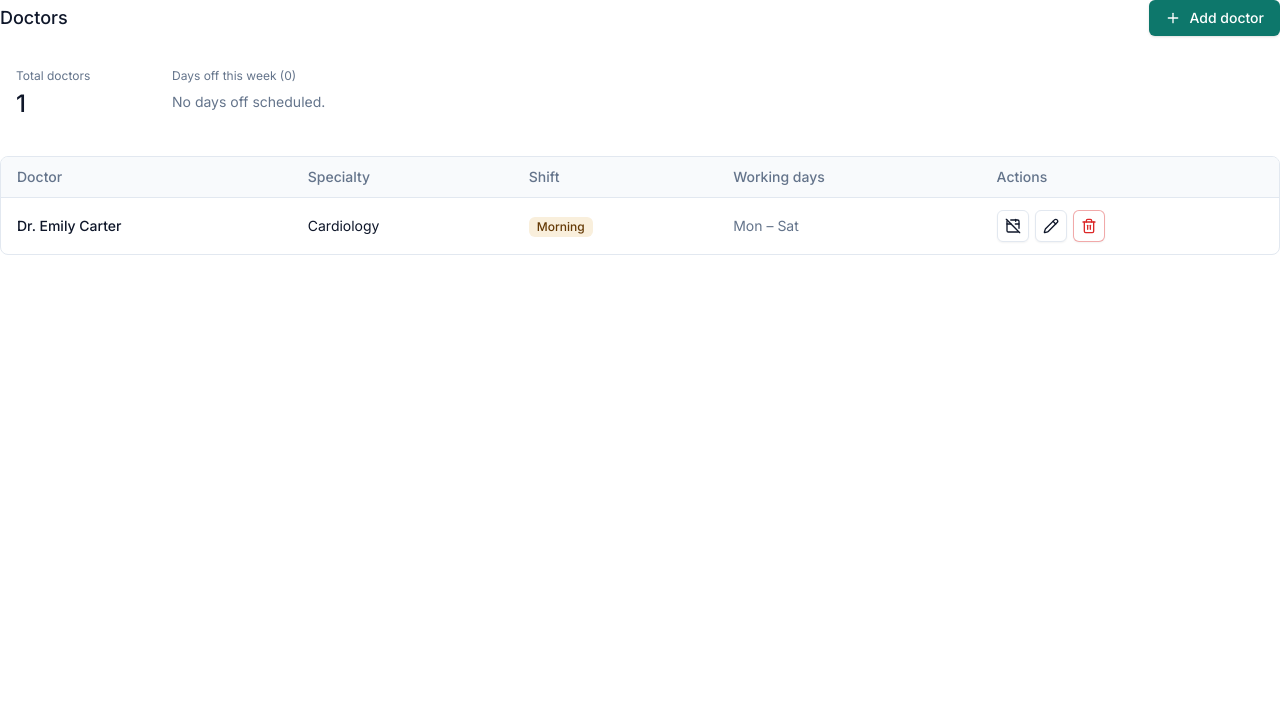
Day-off enforcement flow › lists the day off back in the admin summary once it is set
The image size is (1280, 720).
Click the button named "Mark a day off for Dr. Emily Carter" at (1013, 226), box left=997, top=210, right=1029, bottom=242
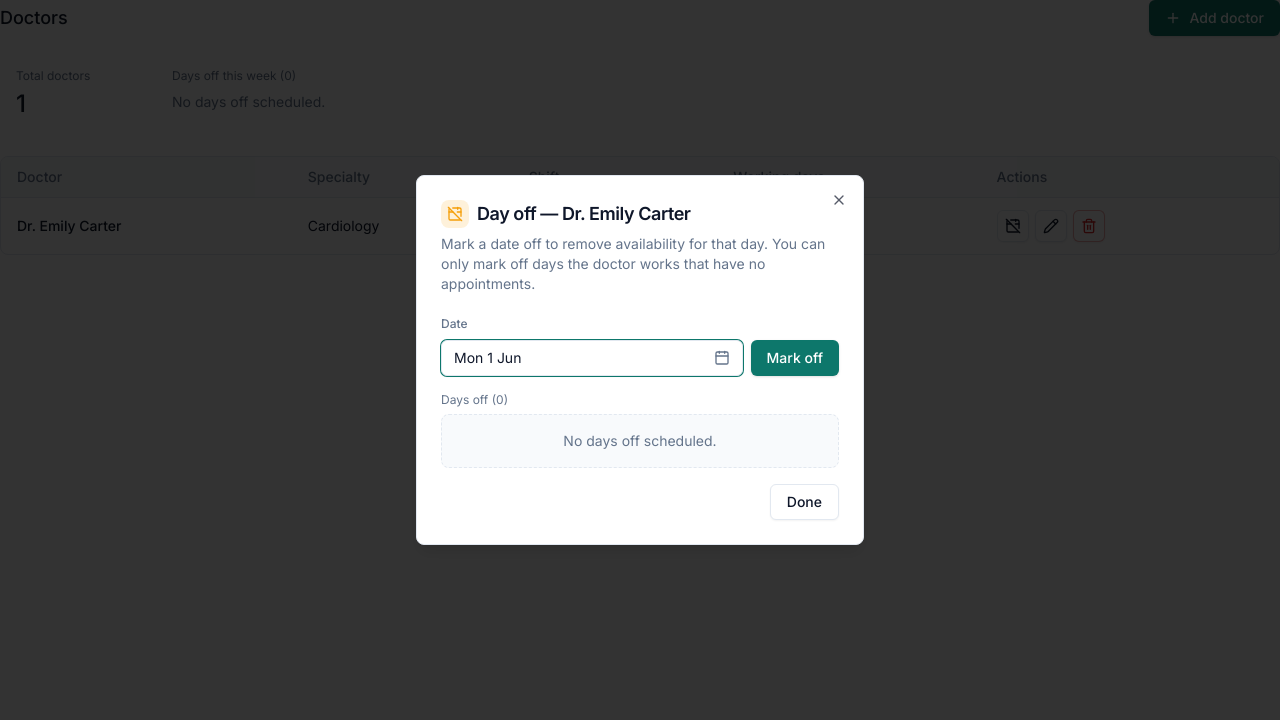
Click the button named "Date" at (488, 358), box left=441, top=340, right=742, bottom=376
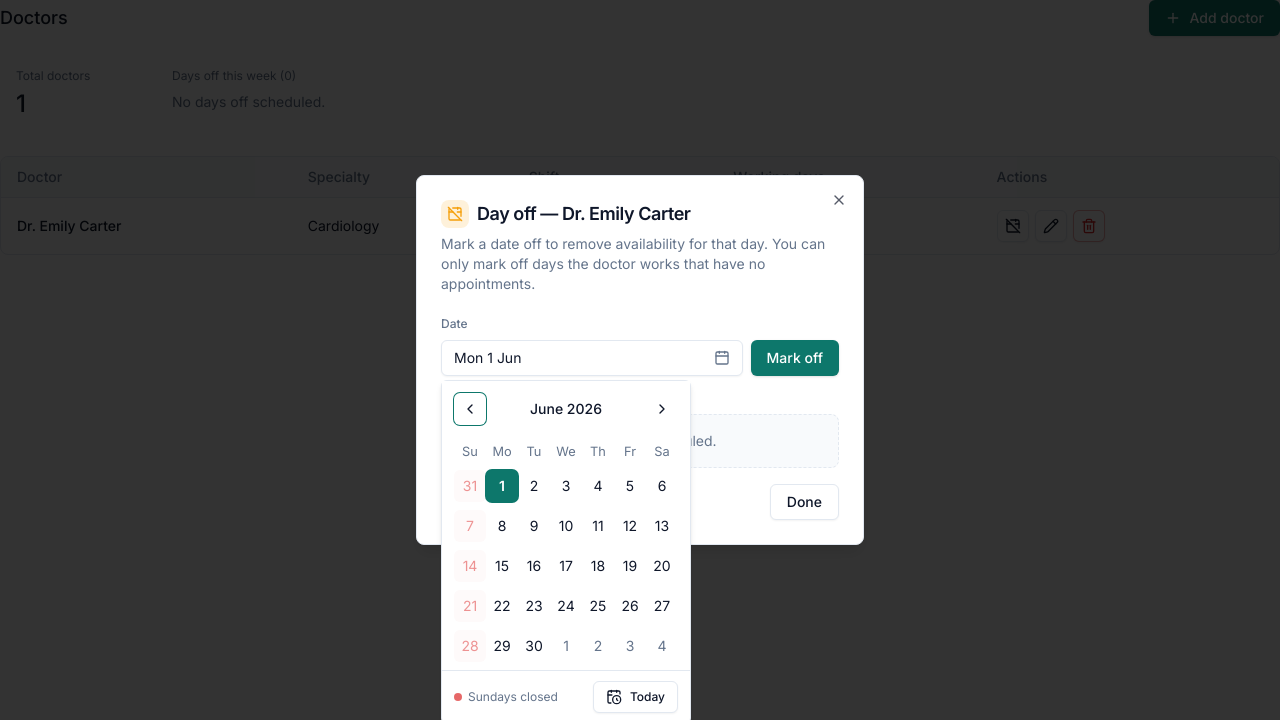
Click the button named "Wednesday, June 3rd, 2026" at (566, 486), box left=550, top=470, right=582, bottom=502
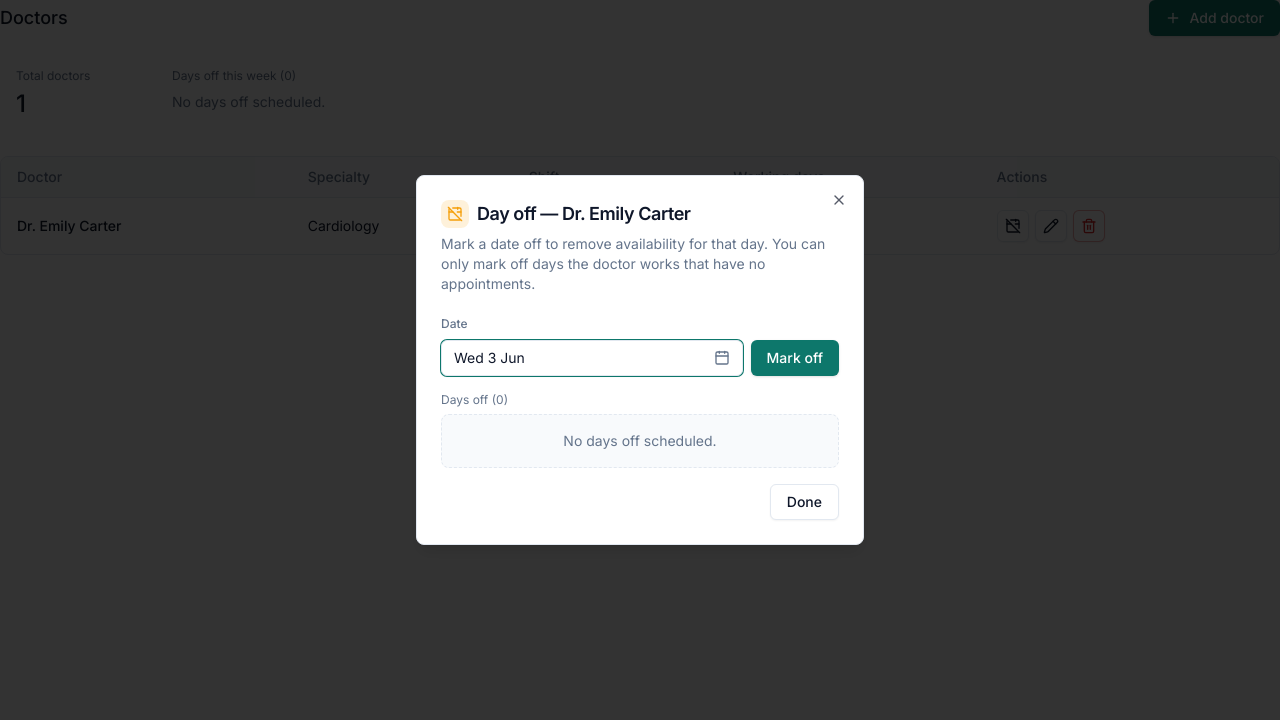
Click the button "Mark off" at (795, 358), box left=750, top=340, right=839, bottom=376
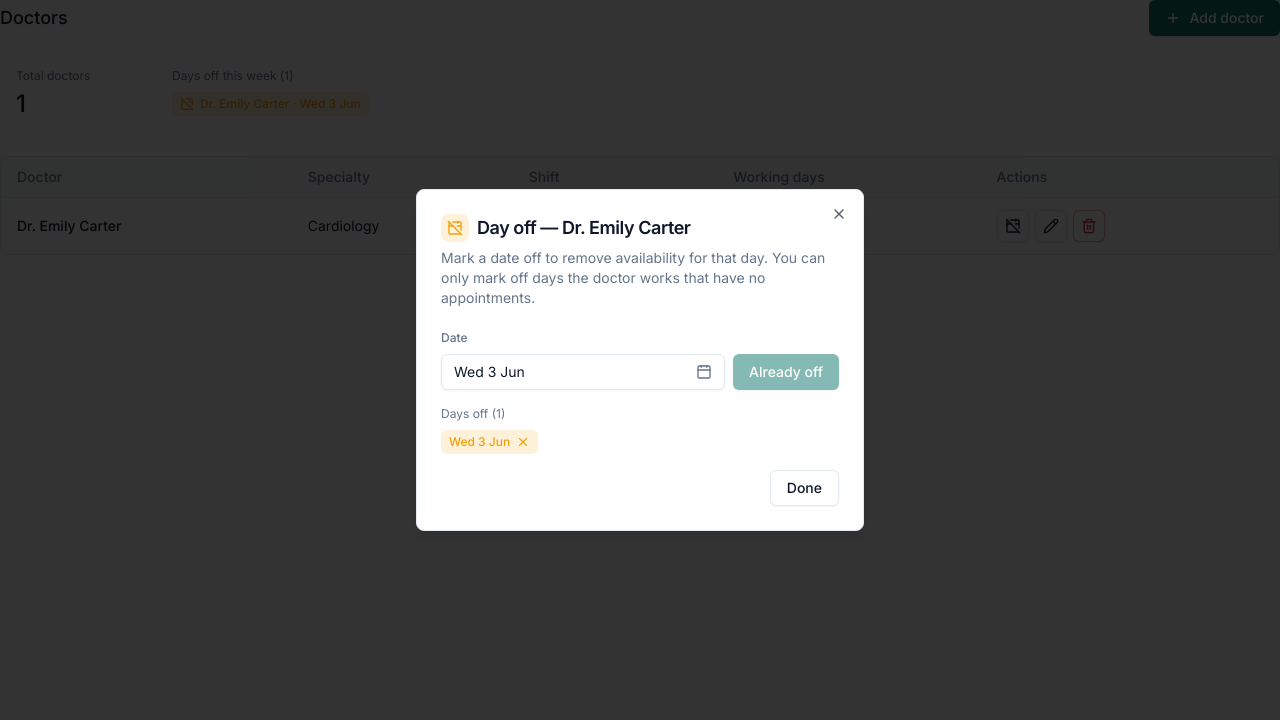
Check: the text "Dr. Emily Carter · Wed 3 Jun" is shown, box left=172, top=92, right=369, bottom=116
